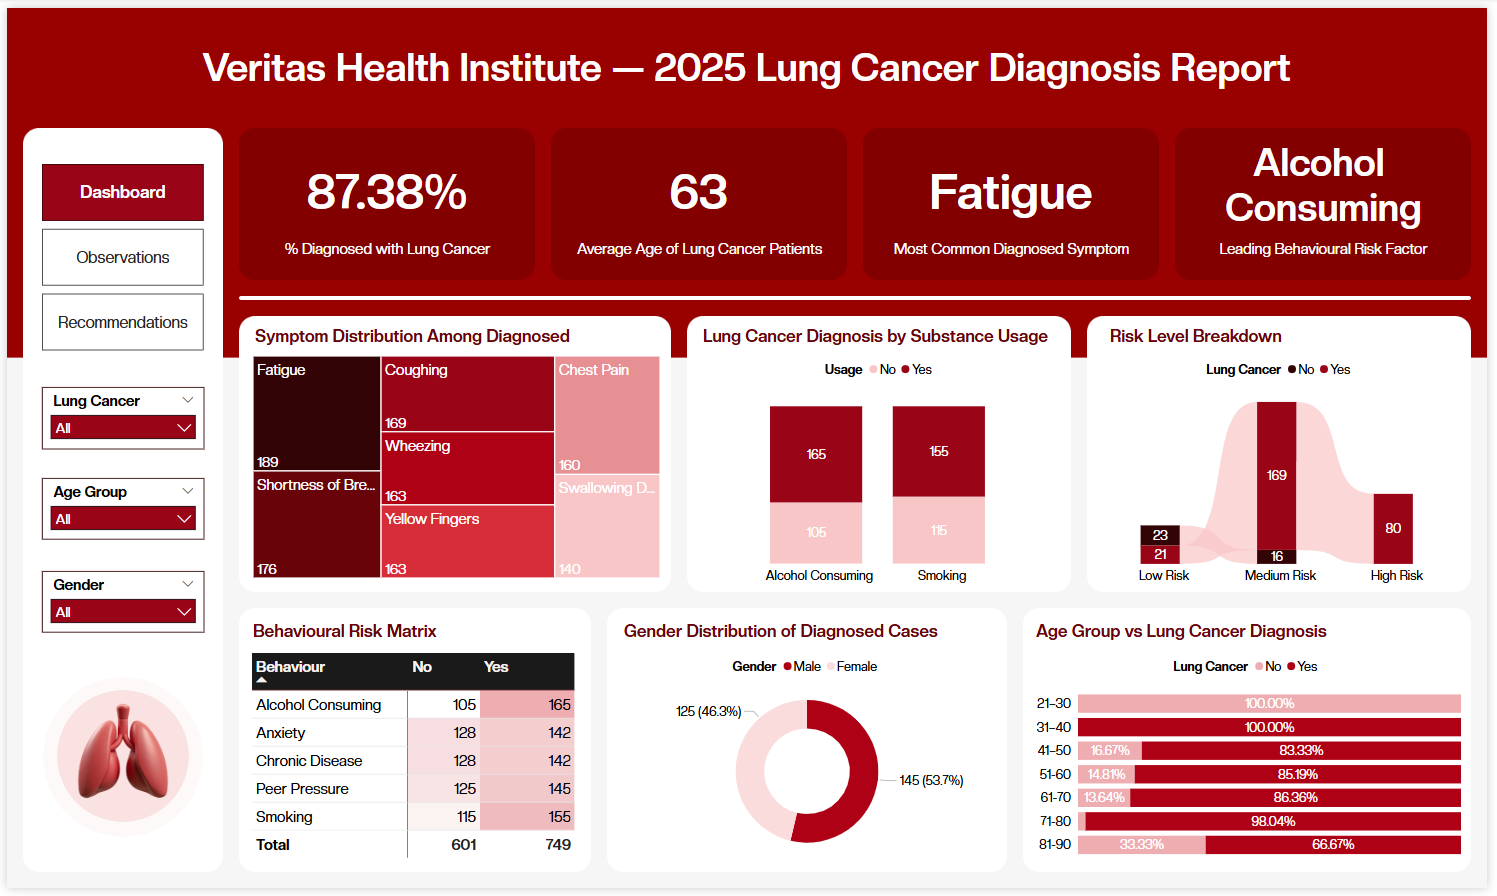

What the dashboard file says about the page in this screenshot:
{"tool":"powerbi","page":{"name":"Dashboard","canvas":[1850,1100],"ordinal":0},"visuals":[{"type":"treemap","fields":{"Group":["Symptom Breakdown.Symptom"],"Values":["CountNonNull(Symptom Breakdown.Partcipant ID)"]},"box":[302.5,430,518.8,287.5],"z":0},{"type":"pageNavigator","box":[43.6,194.5,202.7,235.5],"z":1000},{"type":"hundredPercentStackedBarChart","fields":{"Y":["CountNonNull(Survey Lung Cancer.Partcipant ID)"],"Category":["Lung Cancer.Age Group"],"Series":["Lung Cancer.Lung Cancer"]},"box":[1278.8,801.2,543.8,273.8],"z":2000},{"type":"donutChart","fields":{"Category":["Lung Cancer.Gender"],"Series":["Lung Cancer.Lung Cancer"],"Y":["CountNonNull(Lung Cancer.Partcipant ID)"]},"box":[766.2,801.2,467.5,273.8],"z":3000},{"type":"textbox","box":[305.7,285.4,338.9,35.6],"z":4000},{"type":"textbox","box":[176.2,40,1496.2,76.2],"z":5000},{"type":"pivotTable","fields":{"Rows":["Behavioural Breakdown.Behaviour"],"Values":["CountNonNull(Behavioural Breakdown.Partcipant ID)"],"Columns":["Behavioural Breakdown.Presence"]},"box":[301.2,801.2,417.5,273.8],"z":6000},{"type":"textbox","box":[305,392.5,461.2,37.5],"z":7000},{"type":"textbox","box":[865,392.5,450,37.5],"z":8000},{"type":"textbox","box":[1373.8,392.5,412.5,37.5],"z":9000},{"type":"columnChart","fields":{"Category":["Substance Consumption.Substance"],"Y":["CountNonNull(Substance Consumption.Partcipant ID)"],"Series":["Substance Consumption.Presence"]},"box":[852.5,430,478.8,297.5],"z":10000},{"type":"card","fields":{"Values":["Lung Cancer.Patients with Lung Cancer"]},"box":[330.2,168.9,290,113.1],"z":16000},{"type":"card","fields":{"Values":["Lung Cancer.Average Age of Lung Cancer Patients"]},"box":[720.2,168.9,290,113.3],"z":17000},{"type":"textbox","box":[695.7,285.4,338.9,35.6],"z":18000},{"type":"textbox","box":[1071.6,284.7,368.6,35.7],"z":19000},{"type":"card","fields":{"Values":["Symptom Breakdown.Most Common Symptom Amongst Diagnosed"]},"box":[1110.2,169,290,112.9],"z":20000},{"type":"card","fields":{"Values":["Behavioural Breakdown.LeadingBehaviorRiskSummary"]},"box":[1468.8,144.7,354.3,137.1],"z":21000},{"type":"textbox","box":[1475.9,285.4,338.6,35.7],"z":22000},{"type":"textbox","box":[302.5,761.2,317.5,37.5],"z":23000},{"type":"textbox","box":[766.2,761.2,423.8,37.5],"z":24000},{"type":"textbox","box":[1281.2,761.2,423.8,37.5],"z":25000},{"type":"slicer","fields":{"Values":["Lung Cancer.Lung Cancer"]},"box":[43.3,473.3,203.3,77.8],"z":26000},{"type":"shape","box":[45.6,835.7,200,200],"z":27000},{"type":"shape","box":[62.9,853,165.3,165.3],"z":28000},{"type":"image","box":[67.9,845.9,155,165],"z":29000},{"type":"slicer","fields":{"Values":["Lung Cancer.Age Group"]},"box":[43.3,587.8,203.3,76.7],"z":30000},{"type":"slicer","fields":{"Values":["Lung Cancer.Gender"]},"box":[43.3,703.3,203.3,76.7],"z":31000},{"type":"ribbonChart","fields":{"Category":["Lung Cancer.Symptom Risk Category"],"Series":["Lung Cancer.Lung Cancer"],"Y":["CountNonNull(Lung Cancer.Partcipant ID)"]},"box":[1358.8,430,463.8,297.5],"z":32000}]}

Visuals, with their boxes in screenshot pixels (x1, y1, x2, y2), scaled from the page's 1850x1100 canvas onto the 1497x896 screenshot:
treemap - Symptom Breakdown.Symptom x CountNonNull(Symptom Breakdown.Partcipant ID): bbox(245, 350, 665, 584)
pageNavigator: bbox(35, 158, 199, 350)
hundredPercentStackedBarChart - CountNonNull(Survey Lung Cancer.Partcipant ID) x Lung Cancer.Age Group: bbox(1035, 653, 1475, 876)
donutChart - Lung Cancer.Gender x Lung Cancer.Lung Cancer: bbox(620, 653, 998, 876)
textbox: bbox(247, 232, 522, 261)
textbox: bbox(143, 33, 1353, 95)
pivotTable - Behavioural Breakdown.Behaviour x CountNonNull(Behavioural Breakdown.Partcipant ID): bbox(244, 653, 582, 876)
textbox: bbox(247, 320, 620, 350)
textbox: bbox(700, 320, 1064, 350)
textbox: bbox(1112, 320, 1445, 350)
columnChart - Substance Consumption.Substance x CountNonNull(Substance Consumption.Partcipant ID): bbox(690, 350, 1077, 593)
card - Lung Cancer.Patients with Lung Cancer: bbox(267, 138, 502, 230)
card - Lung Cancer.Average Age of Lung Cancer Patients: bbox(583, 138, 817, 230)
textbox: bbox(563, 232, 837, 261)
textbox: bbox(867, 232, 1165, 261)
card - Symptom Breakdown.Most Common Symptom Amongst Diagnosed: bbox(898, 138, 1133, 230)
card - Behavioural Breakdown.LeadingBehaviorRiskSummary: bbox(1189, 118, 1475, 230)
textbox: bbox(1194, 232, 1468, 262)
textbox: bbox(245, 620, 502, 651)
textbox: bbox(620, 620, 963, 651)
textbox: bbox(1037, 620, 1380, 651)
slicer - Lung Cancer.Lung Cancer: bbox(35, 386, 200, 449)
shape: bbox(37, 681, 199, 844)
shape: bbox(51, 695, 185, 829)
image: bbox(55, 689, 180, 823)
slicer - Lung Cancer.Age Group: bbox(35, 479, 200, 541)
slicer - Lung Cancer.Gender: bbox(35, 573, 200, 635)
ribbonChart - Lung Cancer.Symptom Risk Category x Lung Cancer.Lung Cancer: bbox(1100, 350, 1475, 593)
